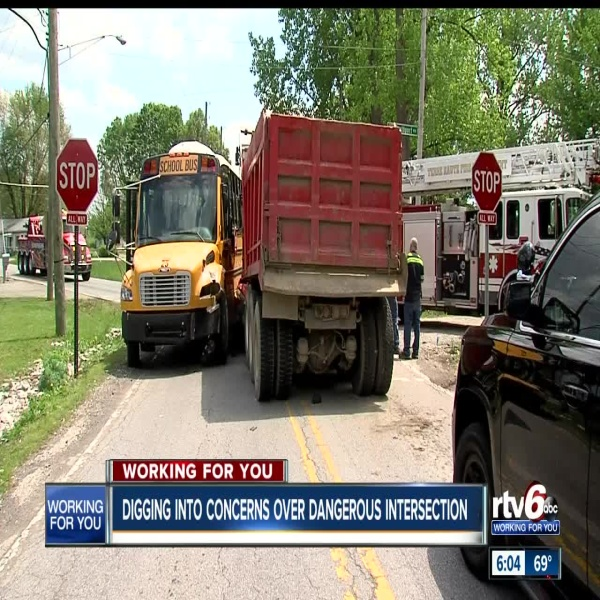stop: (58, 139, 103, 213), (471, 151, 504, 209)
